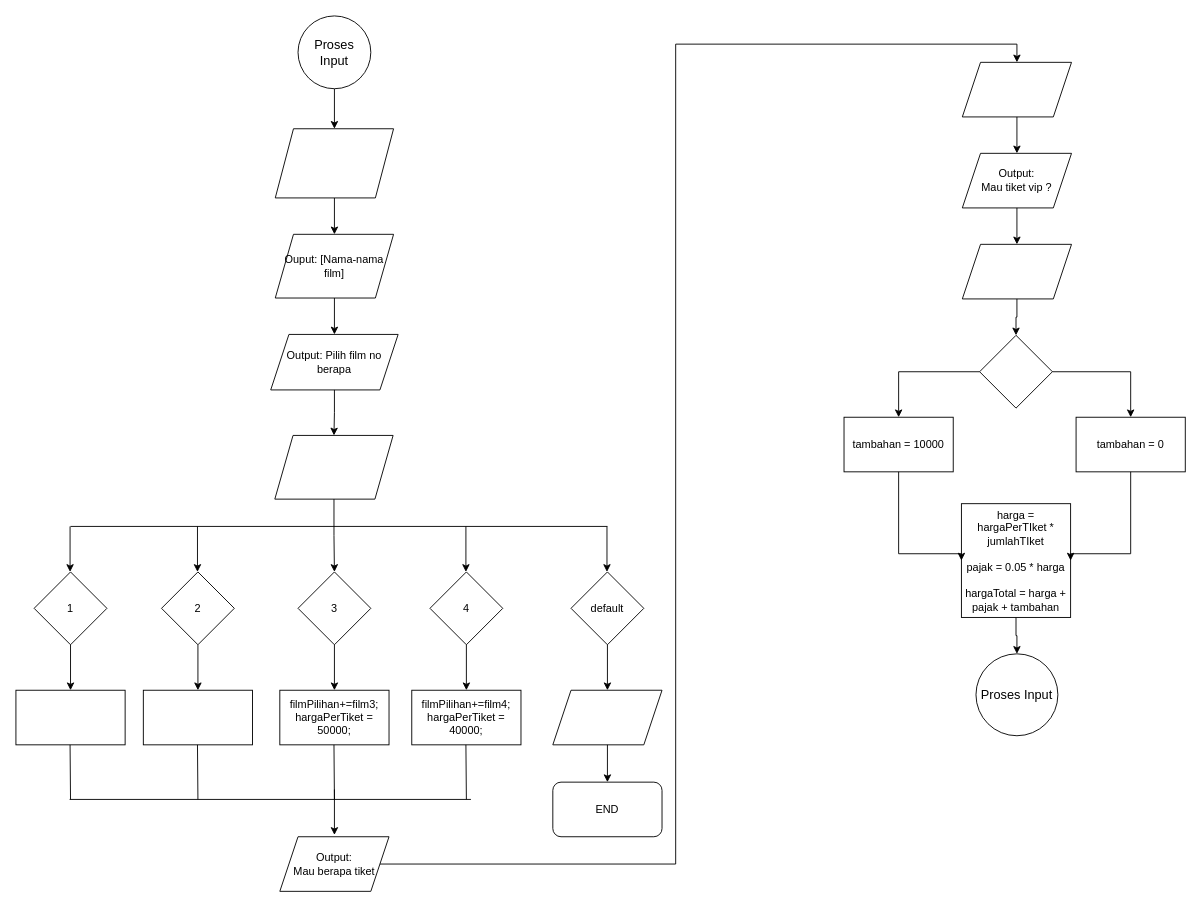
This 1201x907 diagram has some shape labels left out. Each missing label, with the centre of its shape:
filmPilihan+=film1; hargaPerTiket = 50000;: (x=70, y=717)
filmPilihan+=film2; hargaPerTiket = 45000;: (x=197, y=717)
Input: jenisTIket: (x=1016, y=271)
Input: jumlahTiket: (x=1016, y=89)
Input: pilihan: (x=333, y=467)
jenisTIket =='y: (x=1015, y=371)
Ouput: film tidak tersedia: (x=607, y=717)
Output: Selamat Datang Output: Film Tersedia: (x=334, y=163)
